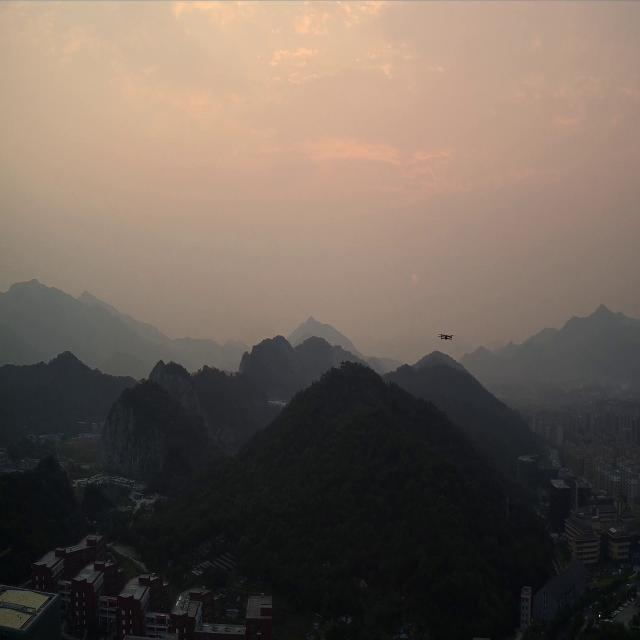UAV: (437, 334, 455, 341)
